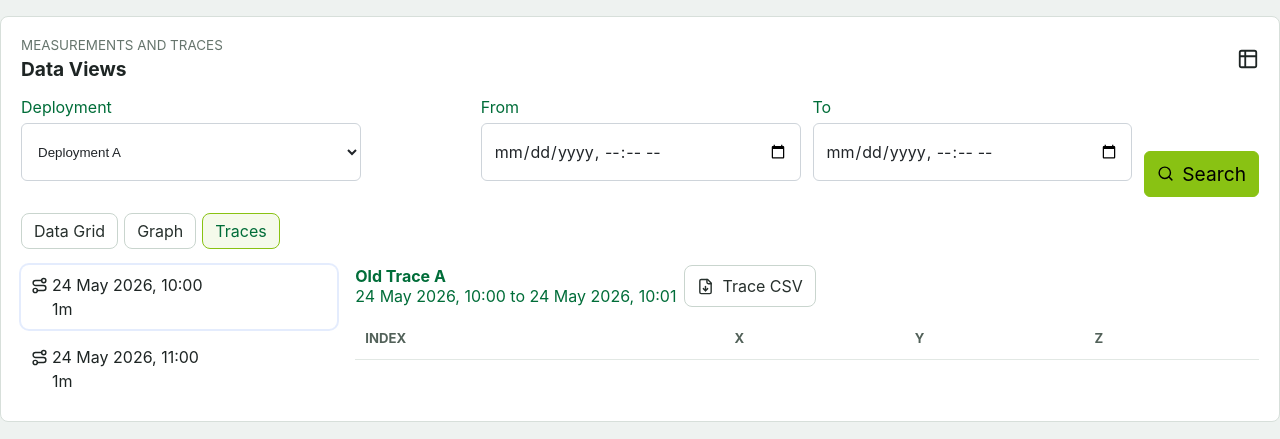
it: Portal dashboard request ownership › owns repeated trace-detail selections by execution when selection returns A to B to A
Expected: the heading "Old Trace A" is shown, [355, 266, 446, 286]
Step 1. Click the button "24 May 2026, 11:00 1m" → {"x": 179, "y": 369}, box [21, 337, 337, 401]
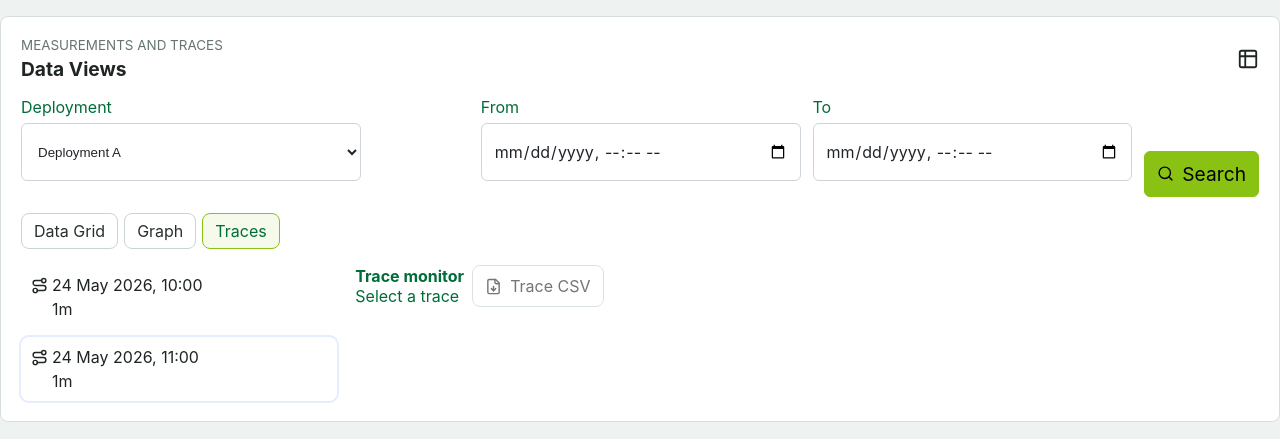
Step 2. Click the button "24 May 2026, 10:00 1m" → {"x": 179, "y": 297}, box [21, 265, 337, 329]
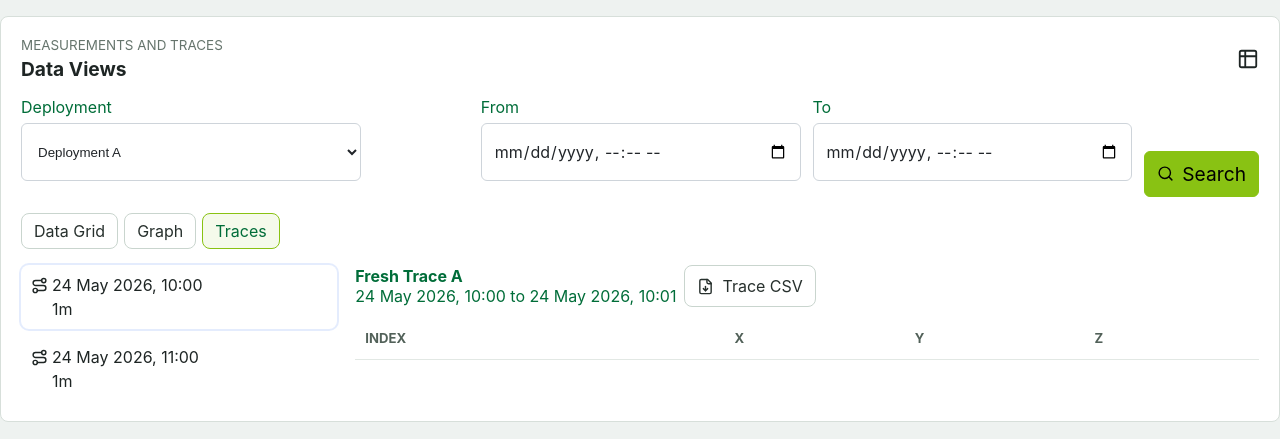
Expected: the heading "Old Trace A" is not shown
Now the heading "Fresh Trace A" is shown, box [355, 266, 463, 286]
